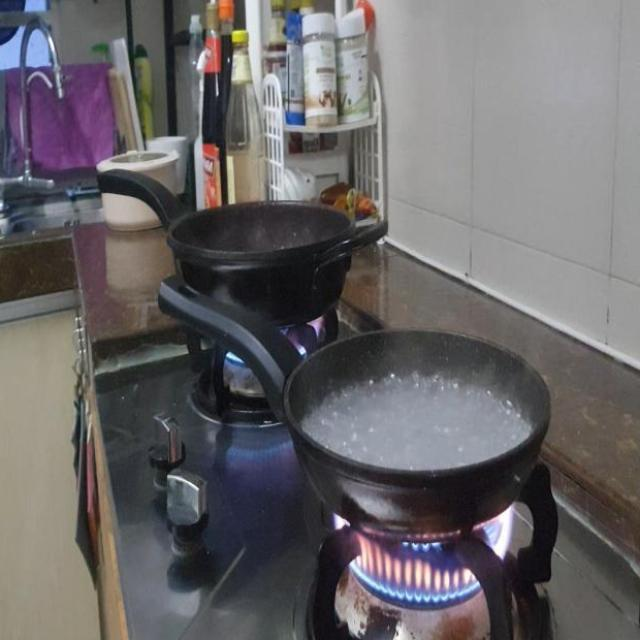smoke: (328, 508, 514, 606)
